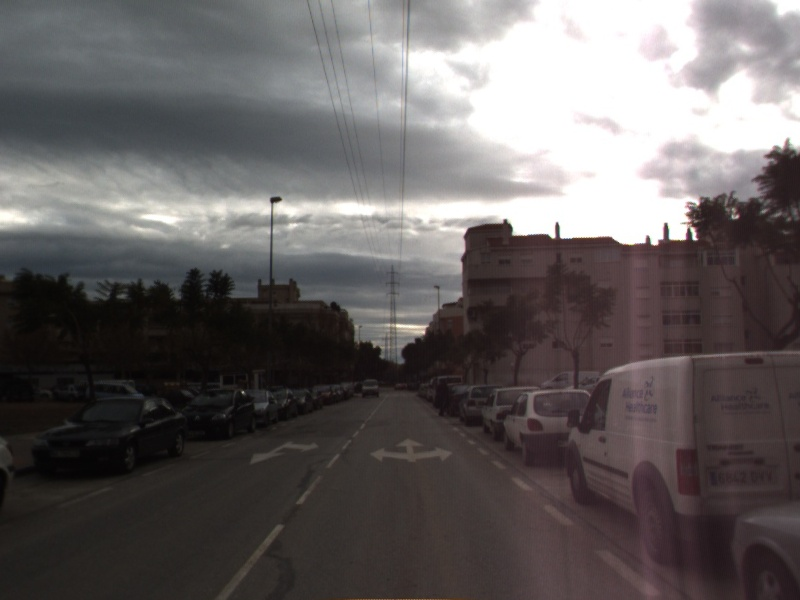STRAIGHT_LEFT_RIGHT: (368, 436, 455, 465)
